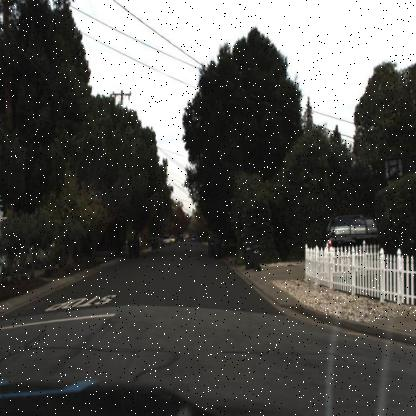car: (318, 208, 382, 254), (162, 235, 171, 248)
